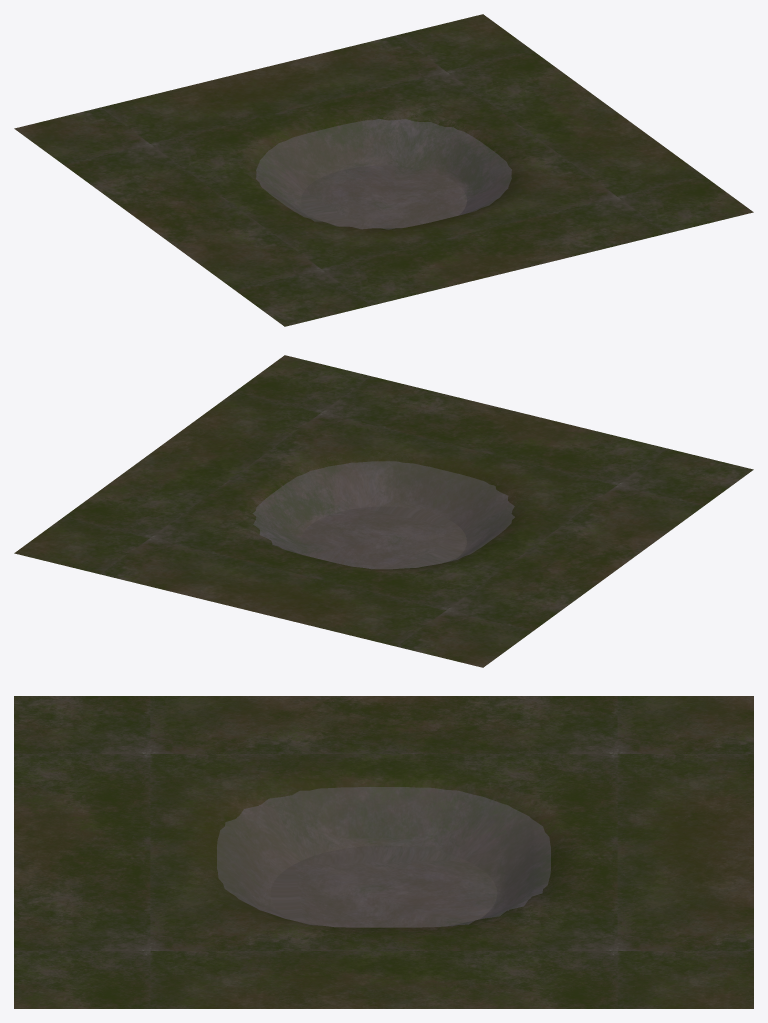
File: Land and Water.fbx
The picture shows the model from 3 angles, top to bottom: view 1: azimuth 30°, elevation 25°; view 2: azimuth 150°, elevation 25°; view 3: azimuth 270°, elevation 25°; orthographic projection. The views are drawn at different scales.
Parts seen in each view (by area): view 1: Land, Water; view 2: Land, Water; view 3: Land, Water.
Boxes of the visible parts, x1,y1,x2,y2 form: Land: (14,14,753,326); Water: (256,119,511,229); Land: (14,355,753,667); Water: (253,461,514,568); Land: (14,696,753,1008); Water: (217,787,550,927).
Bounding box in the file's own units: 71.15 × 4.36 × 71.15.
2 materials, 1 textured.
